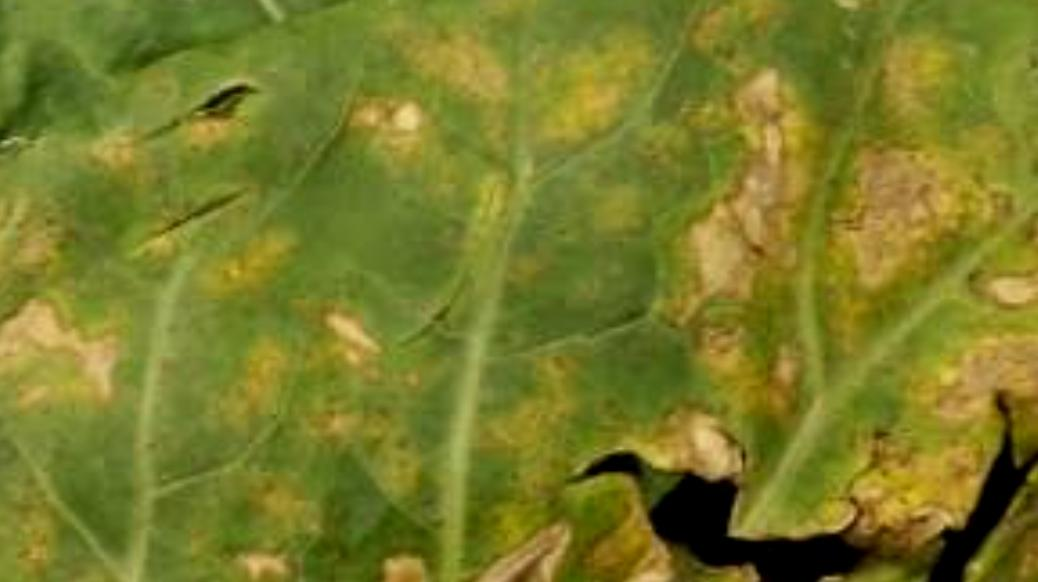Bok-Choy-Diseased: (1, 0, 1038, 582)
